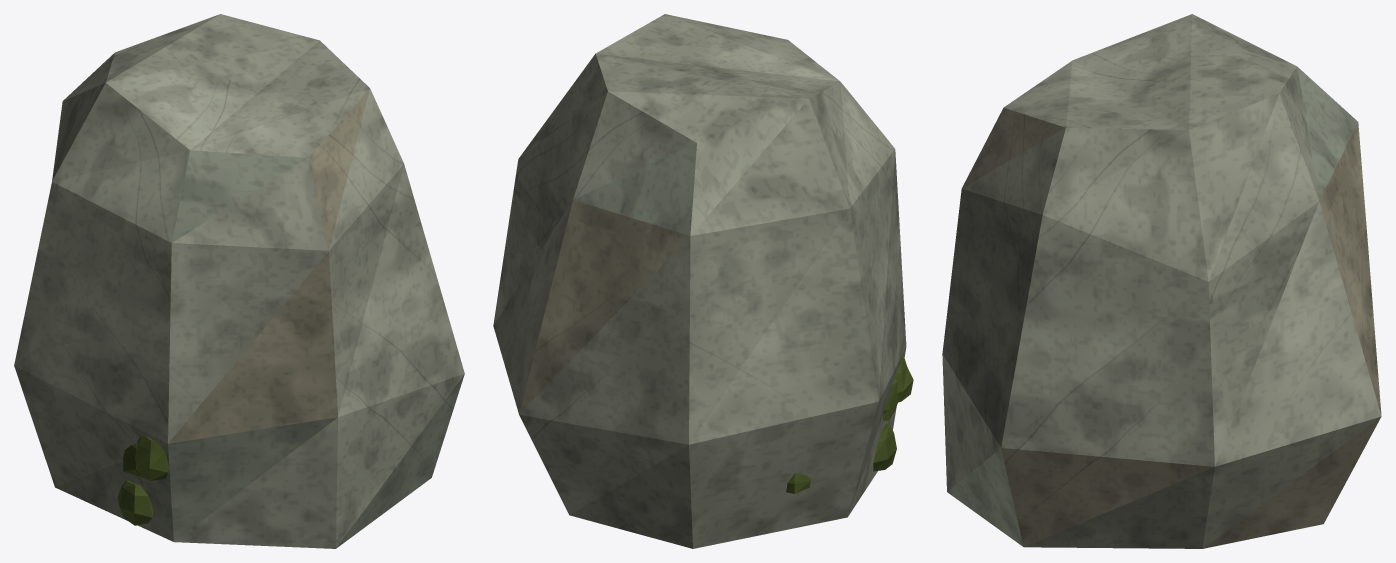
File: b11_rock_2.fbx
The picture shows the model from 3 angles, left to right: view 1: azimuth 30°, elevation 25°; view 2: azimuth 150°, elevation 25°; view 3: azimuth 270°, elevation 25°; orthographic projection. The views are drawn at different scales.
Visible parts, largest first — view 1: b11_rock_2; view 2: b11_rock_2; view 3: b11_rock_2.
Part boxes in pixels (x1=…): b11_rock_2: x1=14, y1=14, x2=464, y2=548; b11_rock_2: x1=493, y1=14, x2=913, y2=548; b11_rock_2: x1=942, y1=14, x2=1381, y2=548.
Size of the model in its own units: 16161 by 15549 by 16505.
